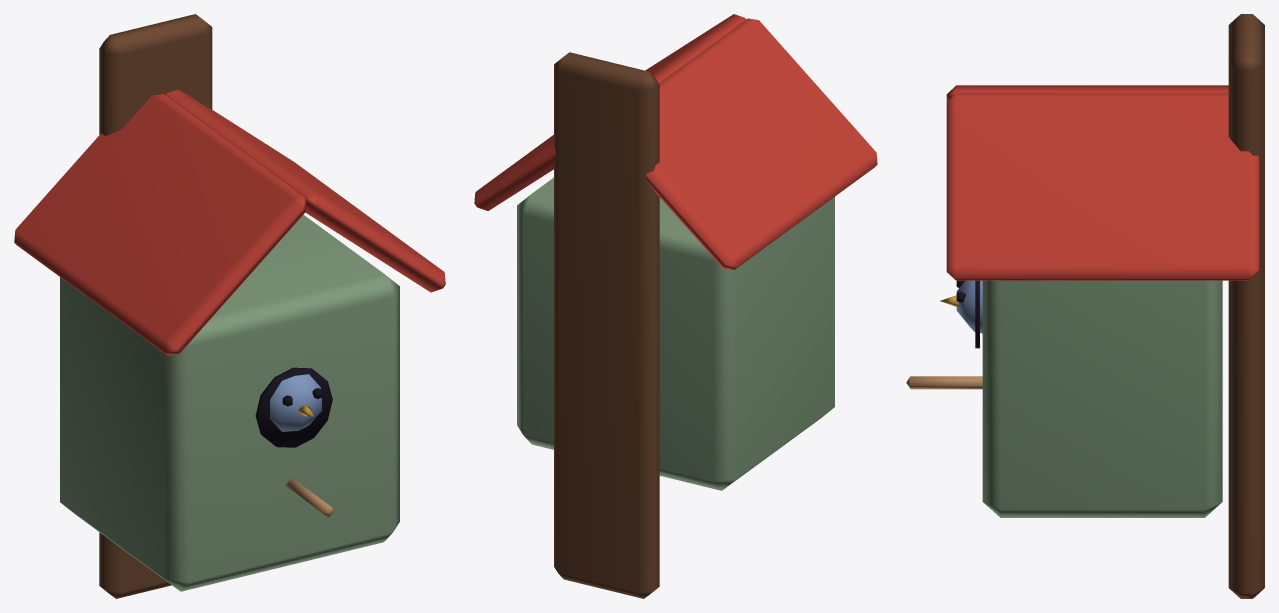
Rendered from birdhouse.glb.
The picture shows the model from 3 angles, left to right: view 1: azimuth 30°, elevation 25°; view 2: azimuth 150°, elevation 25°; view 3: azimuth 270°, elevation 25°; orthographic projection. The views are drawn at different scales.
Visible parts, largest first — view 1: birdhouse, bird; view 2: birdhouse; view 3: birdhouse, bird.
Boxes of the visible parts, left/top/right/bottom form: birdhouse: left=14, top=14, right=445, bottom=598; bird: left=270, top=374, right=322, bottom=431; birdhouse: left=474, top=14, right=877, bottom=598; birdhouse: left=906, top=14, right=1264, bottom=598; bird: left=940, top=280, right=982, bottom=333.
Size of the model in its own units: 0.2626 by 0.5 by 0.2986.
